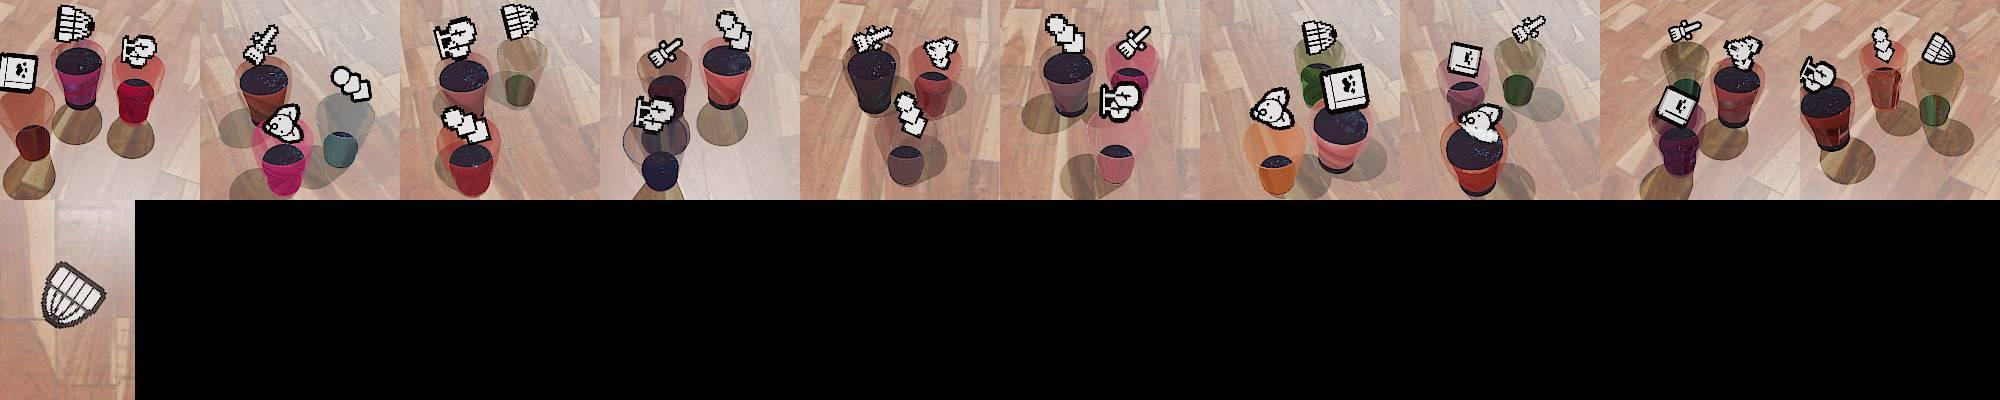icon: (40, 261, 108, 329), (1319, 62, 1370, 115), (1653, 85, 1699, 130), (440, 106, 491, 145), (434, 17, 478, 61), (1249, 87, 1293, 130), (1098, 79, 1143, 122), (1458, 102, 1503, 144), (261, 102, 305, 144), (1043, 13, 1085, 56), (633, 92, 676, 132), (330, 64, 375, 103), (241, 23, 281, 68), (0, 52, 41, 94), (55, 4, 96, 43), (894, 90, 929, 136), (714, 10, 753, 51), (500, 3, 541, 41), (1446, 41, 1483, 79), (1301, 18, 1338, 56), (1798, 56, 1837, 93), (851, 23, 894, 55), (1723, 36, 1763, 70), (120, 33, 157, 69), (1116, 25, 1152, 60), (923, 36, 958, 70), (1921, 32, 1955, 66), (647, 37, 684, 69), (1513, 14, 1546, 43), (1871, 25, 1895, 62), (1667, 19, 1702, 43)
